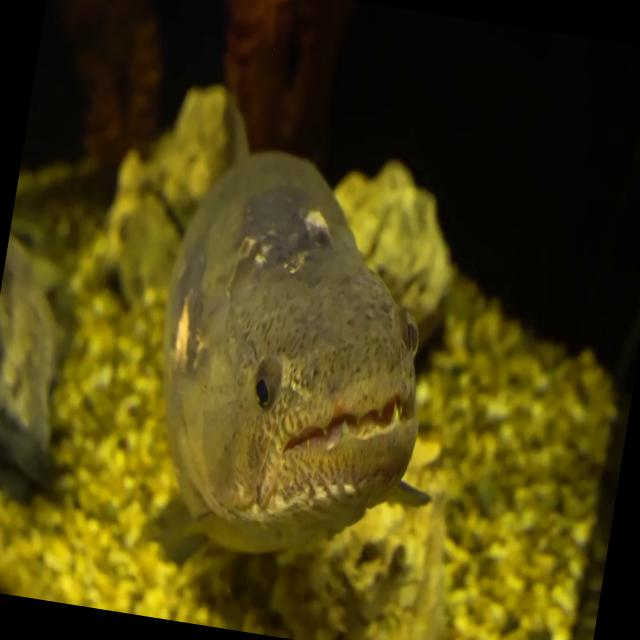fish: (104, 116, 488, 590)
